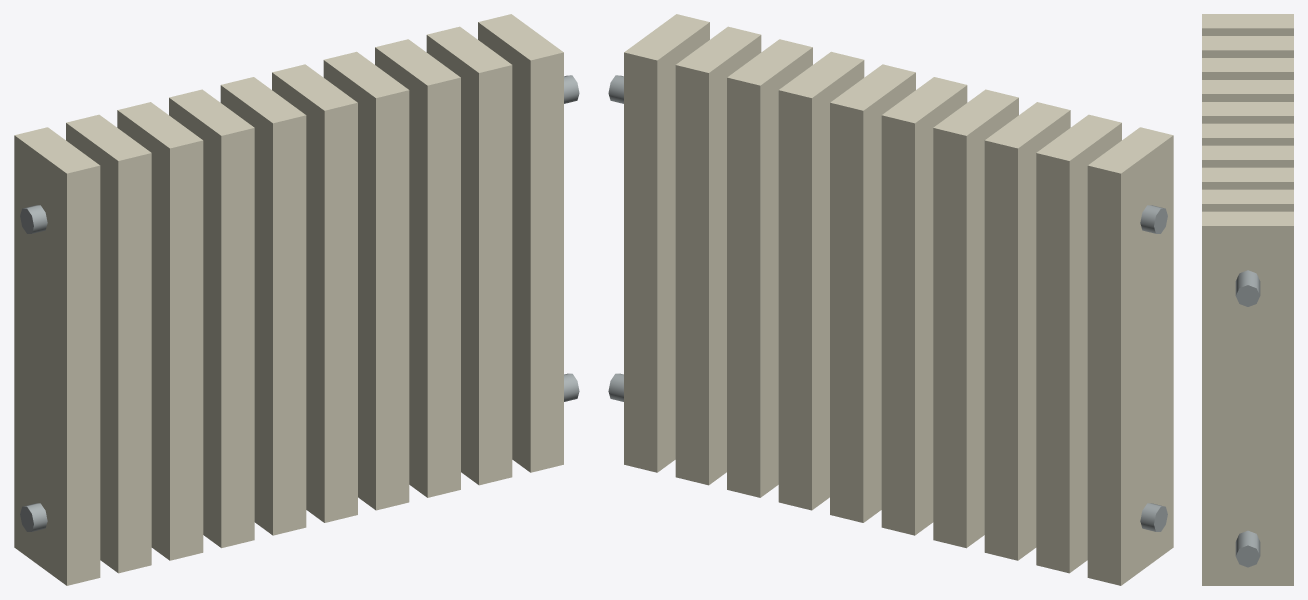
Rendered from suburban-outbreak-interiors-apartment-radiator-5b0e4da2__19996.glb.
3 views of the same model, side by side, from view 1: azimuth 30°, elevation 25°; view 2: azimuth 150°, elevation 25°; view 3: azimuth 270°, elevation 25° (orthographic). The views are drawn at different scales.
Visible parts, largest first — view 1: apartment-radiator; view 2: apartment-radiator; view 3: apartment-radiator.
Part boxes in pixels (left/top/right/bottom): apartment-radiator: left=14, top=14, right=579, bottom=585; apartment-radiator: left=608, top=14, right=1173, bottom=585; apartment-radiator: left=1202, top=14, right=1293, bottom=585.
Size of the model in its own units: 0.9 by 0.65 by 0.15.
